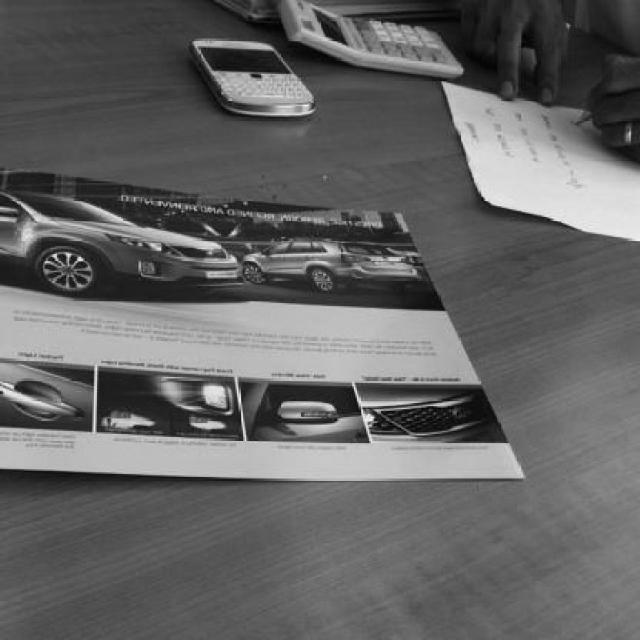fake: (182, 26, 324, 112)
